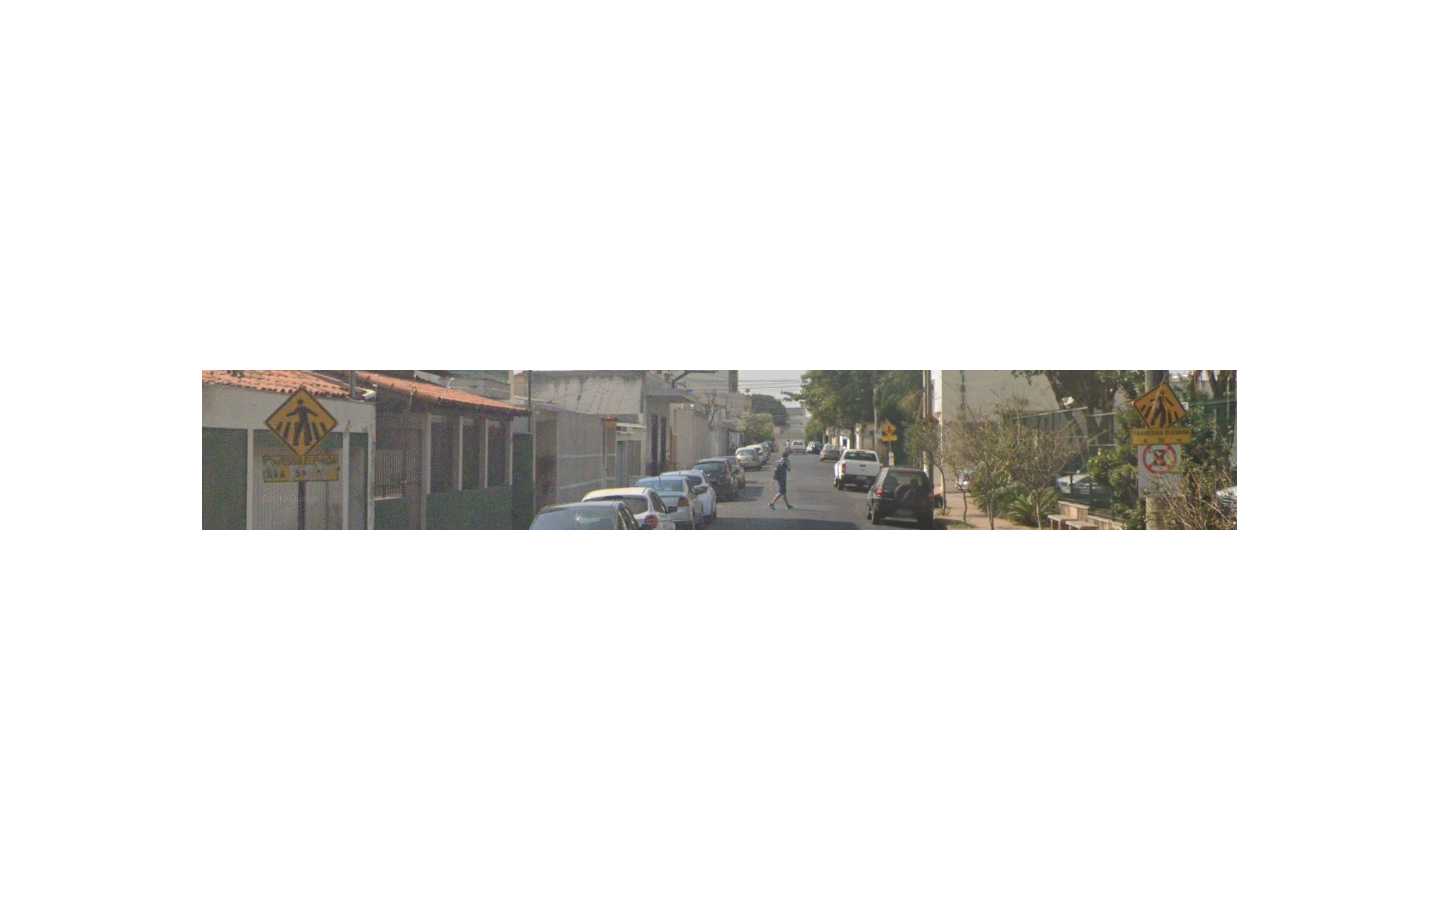t50m: (262, 383, 338, 482), (1131, 379, 1190, 445)
